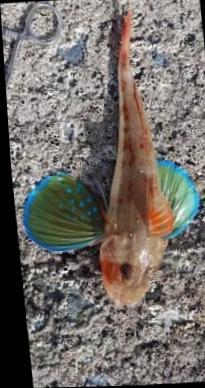fish: (19, 9, 196, 305)
